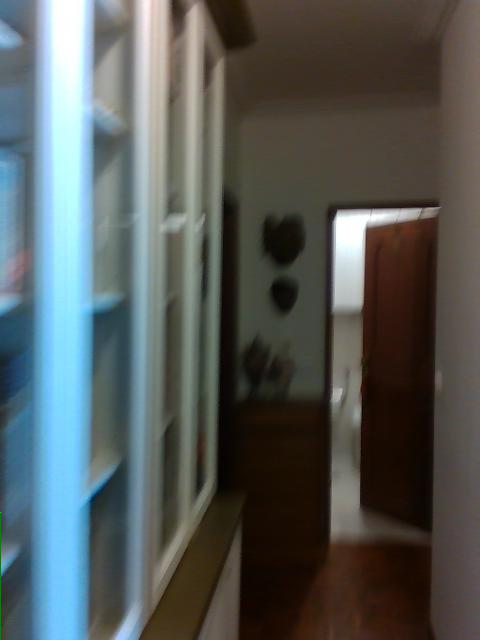semi_door: (321, 198, 442, 549)
